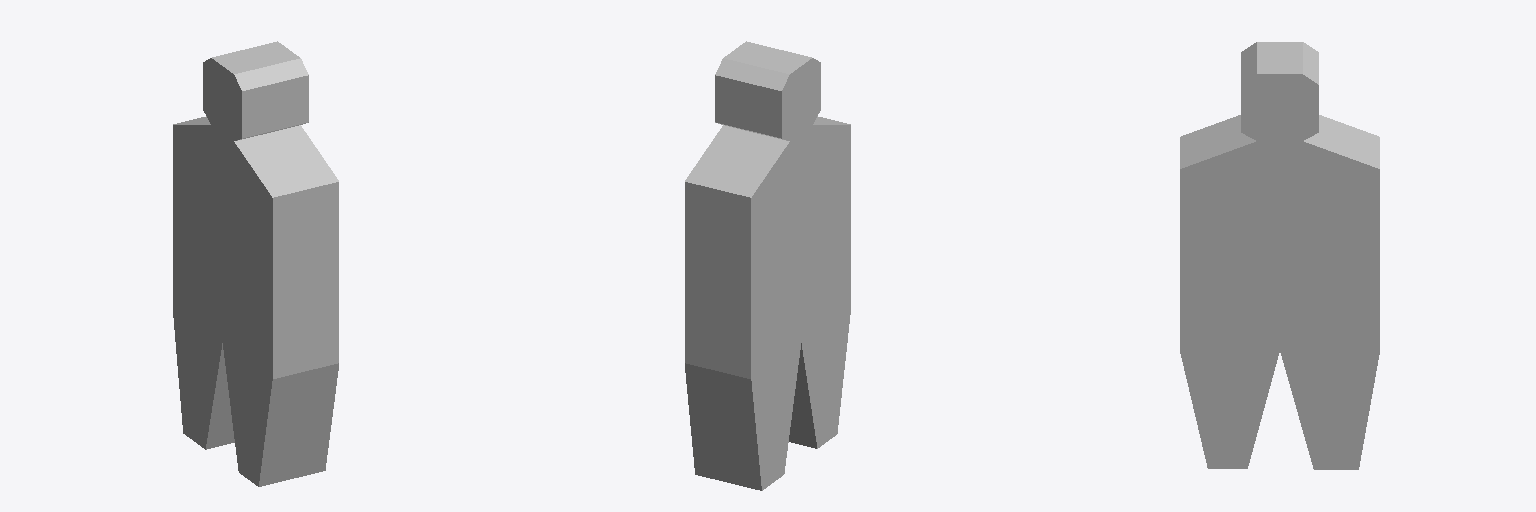
File: player.obj
The picture shows the model from 3 angles: view 1: azimuth 30°, elevation 25°; view 2: azimuth 150°, elevation 25°; view 3: azimuth 270°, elevation 25°; orthographic projection.
Visible parts, largest first — view 1: Cube.001; view 2: Cube.001; view 3: Cube.001.
Boxes of the visible parts, x1,y1,x2,y2 form: Cube.001: [173, 41, 338, 486]; Cube.001: [685, 41, 850, 490]; Cube.001: [1180, 42, 1379, 469].
Size of the model in its own units: 0.77 by 4.36 by 2.